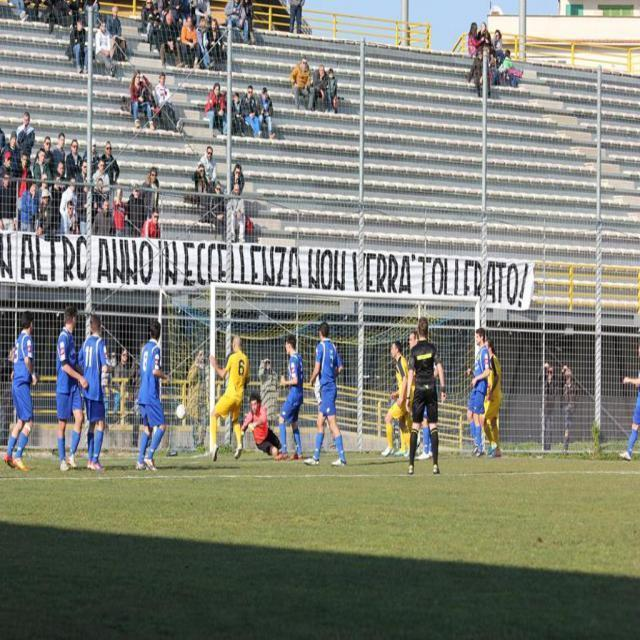ball: (176, 403, 186, 418)
